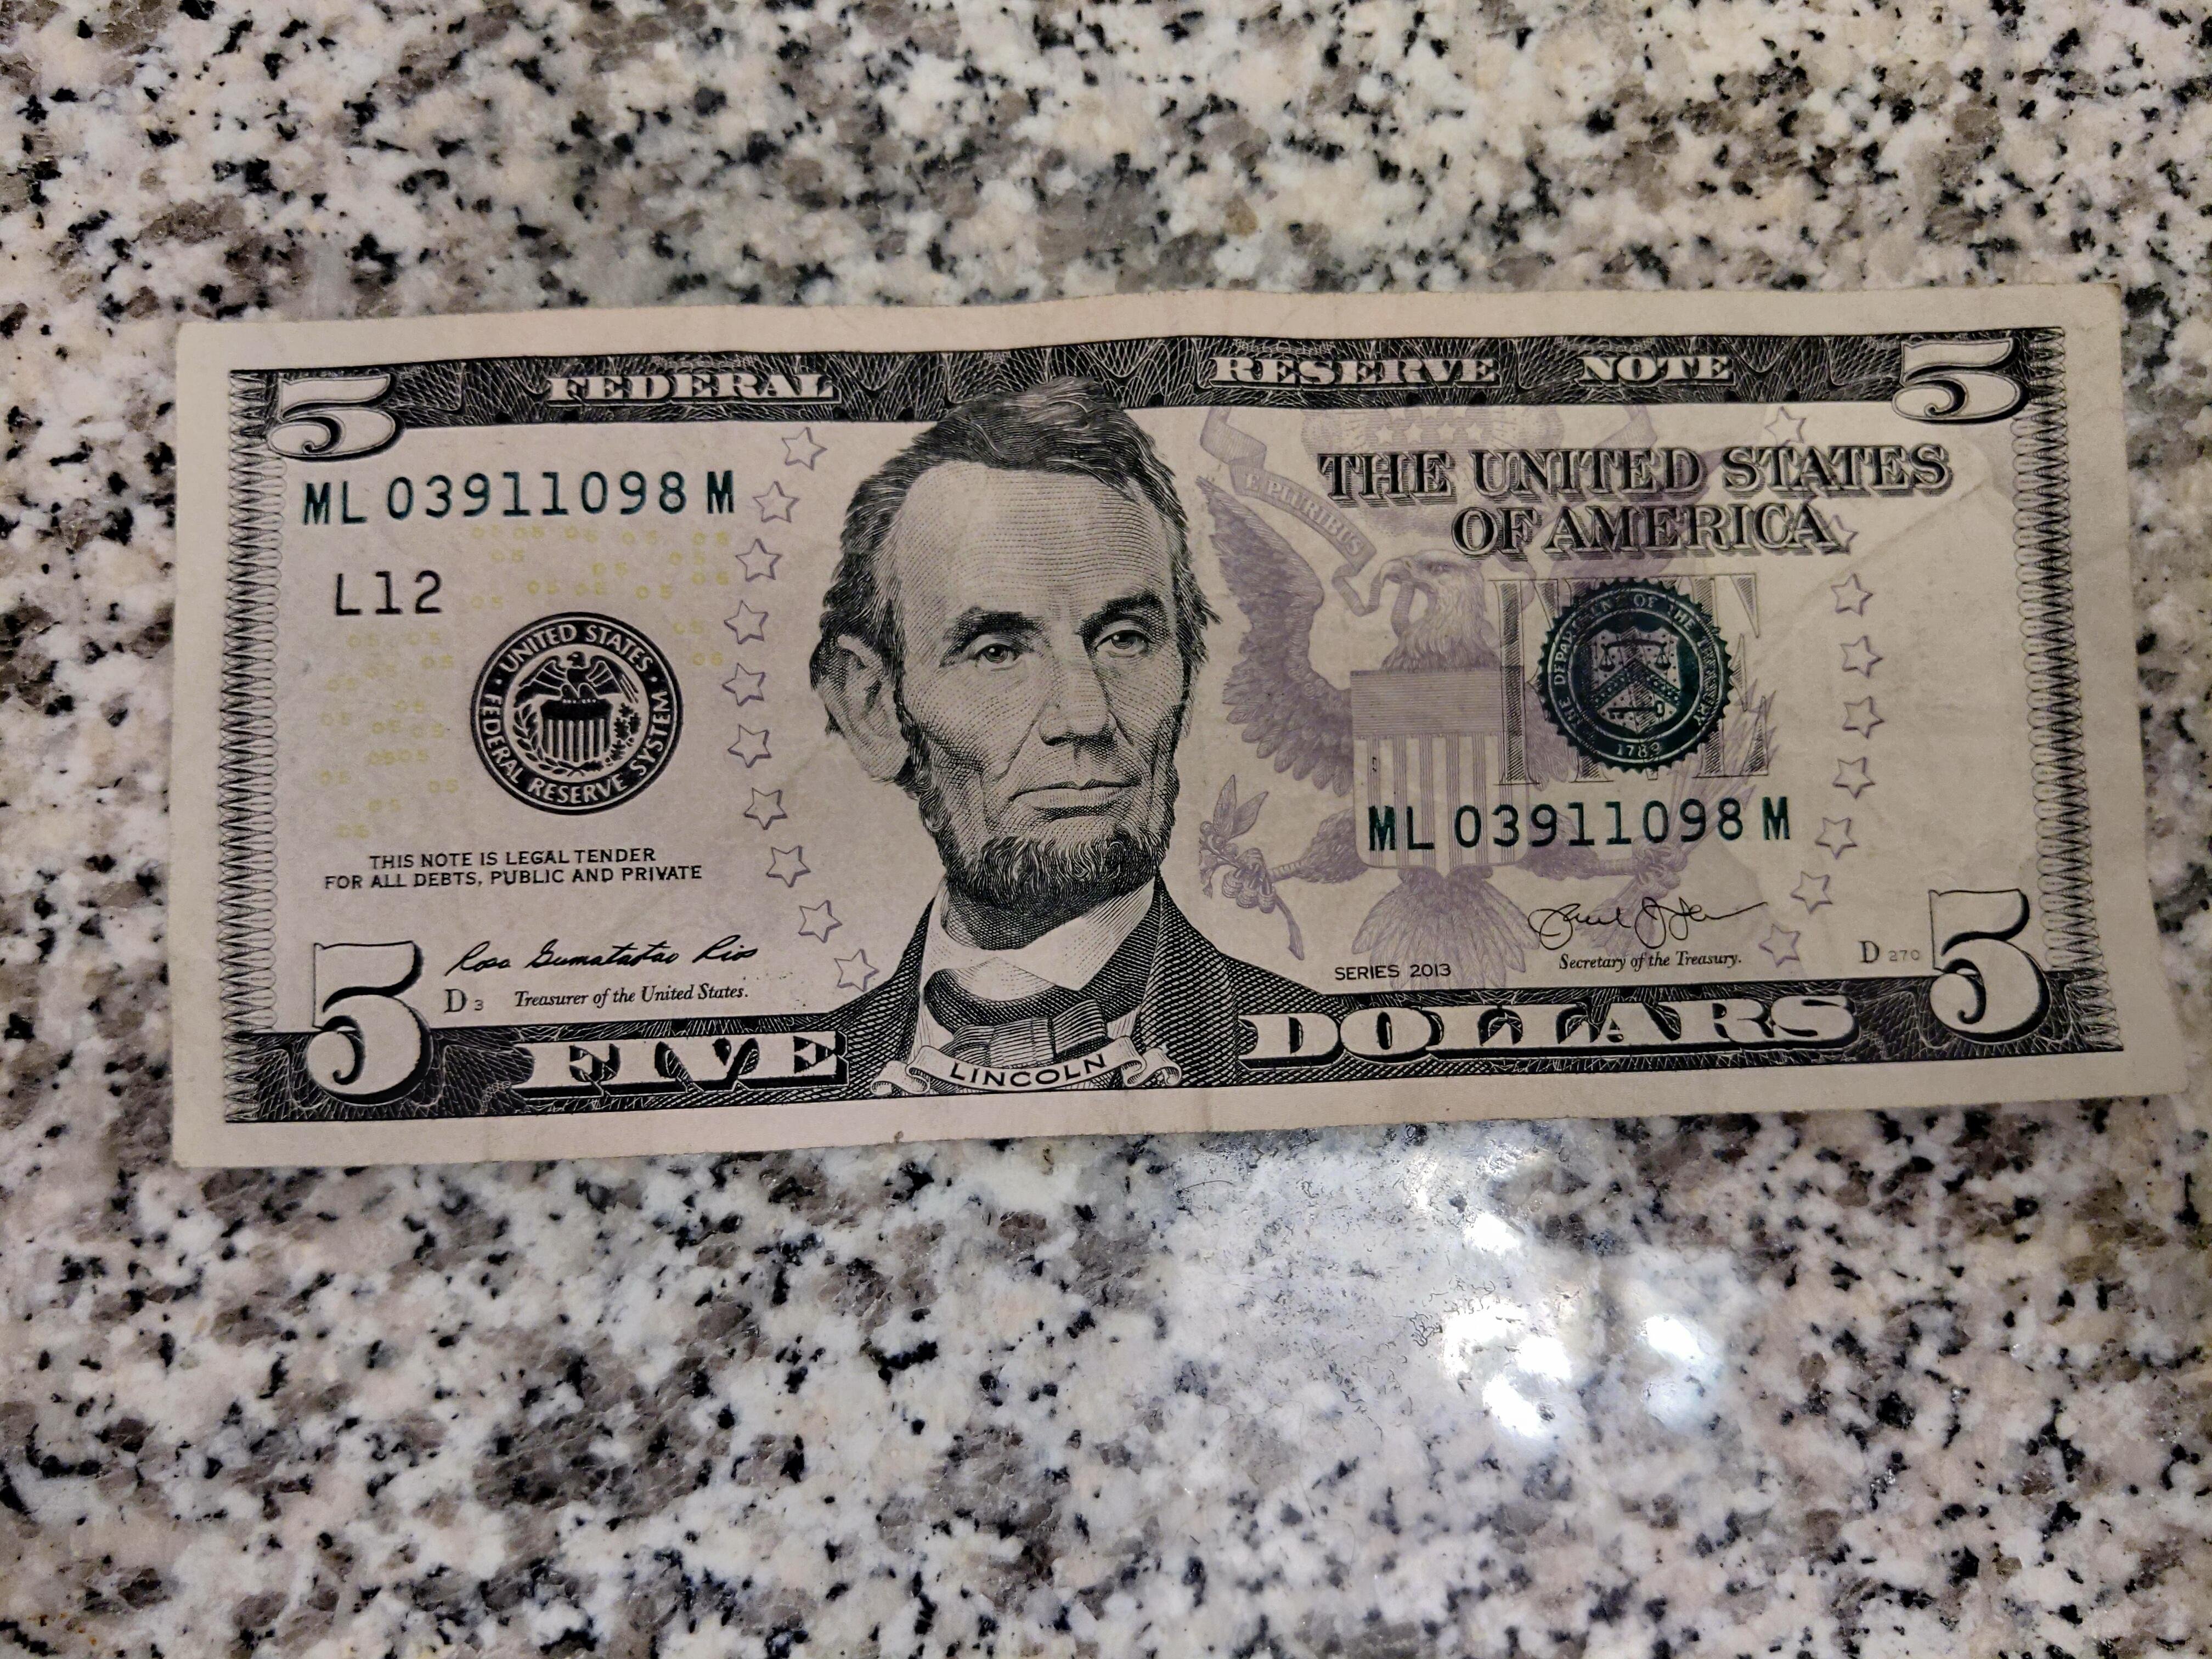FiveBill: (165, 274, 2193, 1173)
